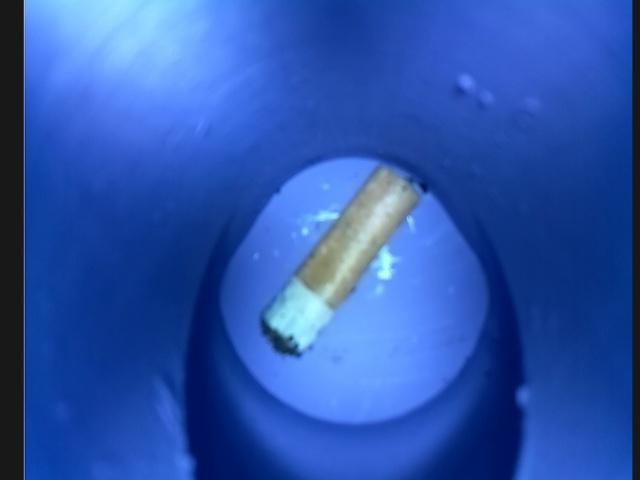megot: (252, 155, 438, 363)
